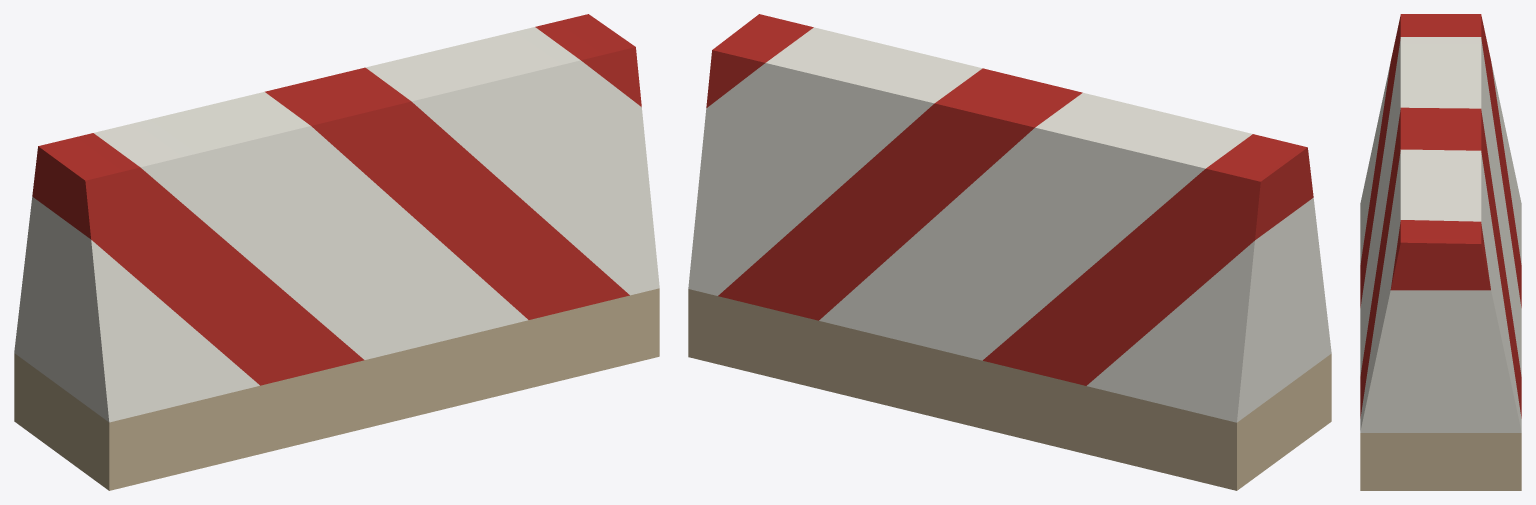
Rendered from blockade2.fbx.
3 views of the same model, side by side, from view 1: azimuth 30°, elevation 25°; view 2: azimuth 150°, elevation 25°; view 3: azimuth 270°, elevation 25° (orthographic). The views are drawn at different scales.
Parts seen in each view (by area): view 1: blockade2; view 2: blockade2; view 3: blockade2.
Boxes of the visible parts, bbox=[...] form: blockade2: bbox=[14, 14, 659, 490]; blockade2: bbox=[688, 14, 1331, 490]; blockade2: bbox=[1360, 14, 1521, 490].
Bounding box in the file's own units: 200 × 102 × 59.84.
